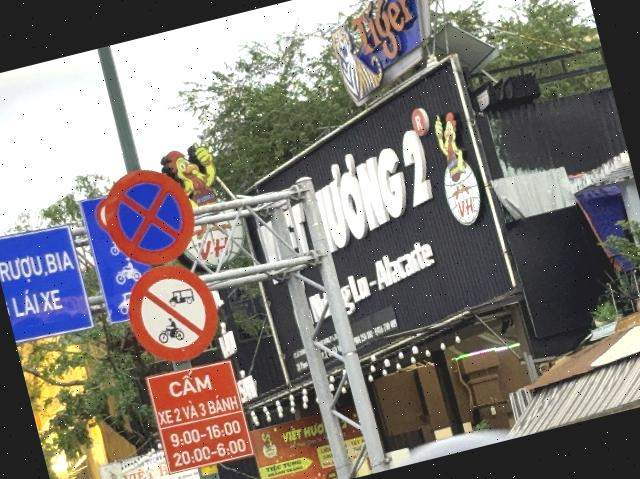cam-dung-va-do-xe: (95, 158, 205, 277)
cam-xe-2-banh-3-banh: (118, 254, 228, 372)
